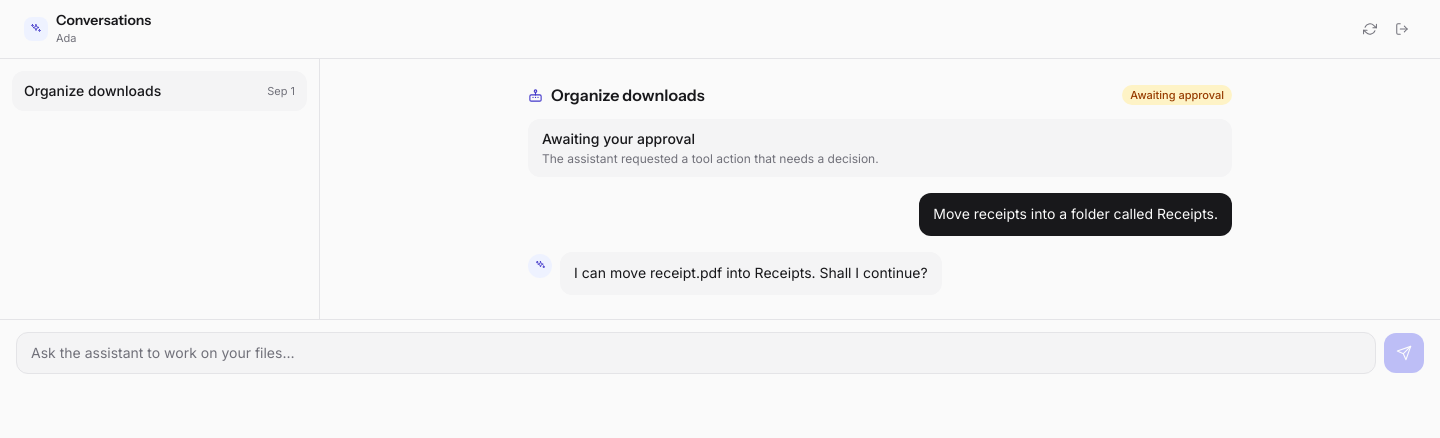
Test: AIHistoryView › submits an instruction to the selected conversation, clears the input, and reconciles from the server
Expected: the text "Move receipts into a folder called Receipts." is shown, [933, 203, 1218, 226]
Type "Move the scanned PDFs into a folder called Scanned." into the field named "Give the assistant an instruction" at point(696, 352), box [16, 332, 1376, 374]
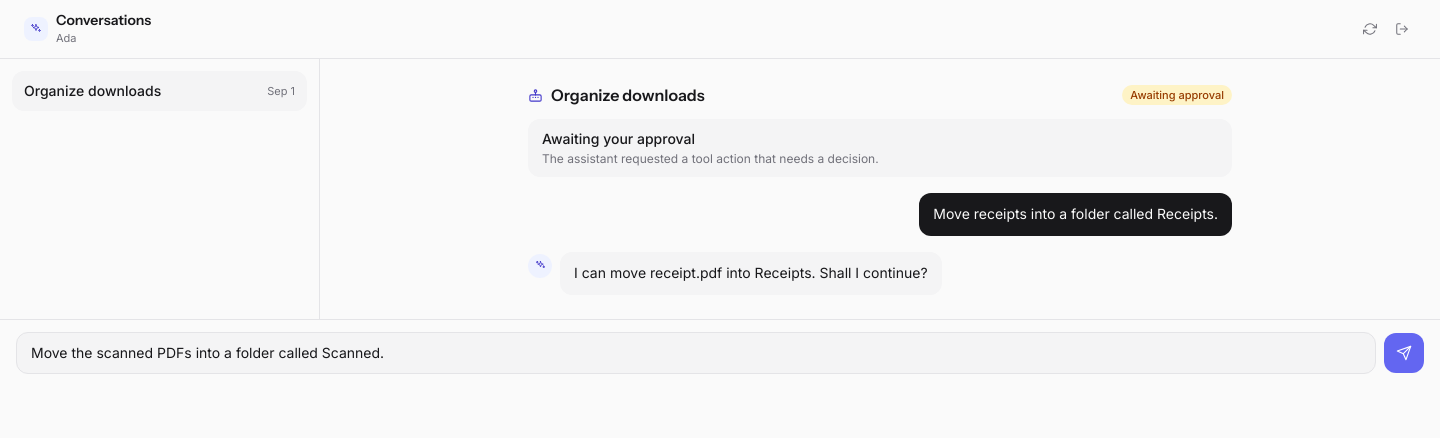
Click the button named "Send instruction" at point(1404, 352), box [1384, 332, 1424, 372]
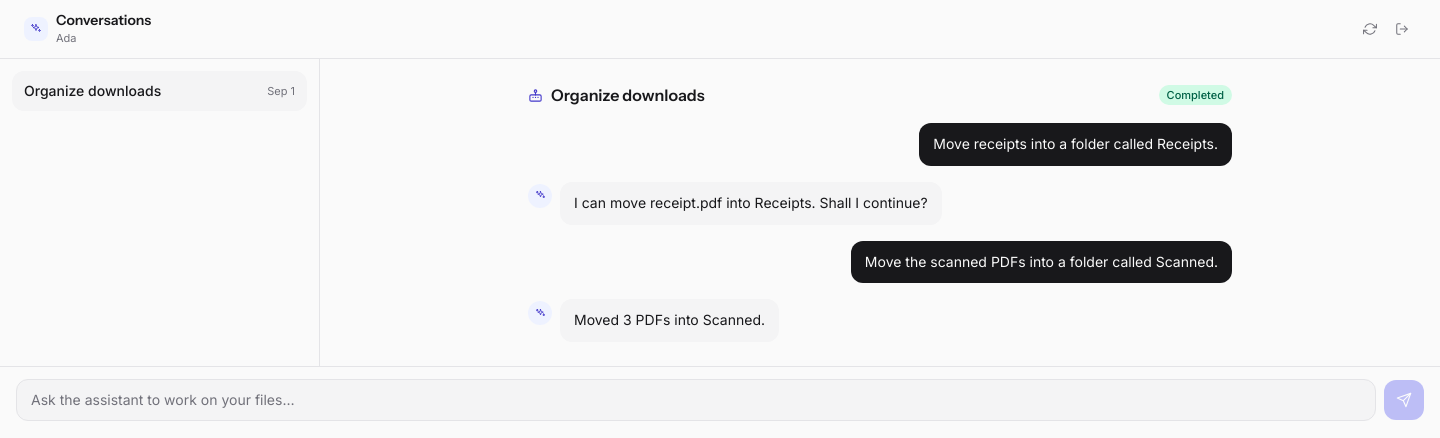
Expected: the text "Moved 3 PDFs into Scanned." is shown, [574, 309, 765, 332]
Expected: the text "Move the scanned PDFs into a folder called Scanned." is shown, [865, 250, 1218, 273]
Expected: the field named "Give the assistant an instruction" is empty, [16, 379, 1376, 421]
